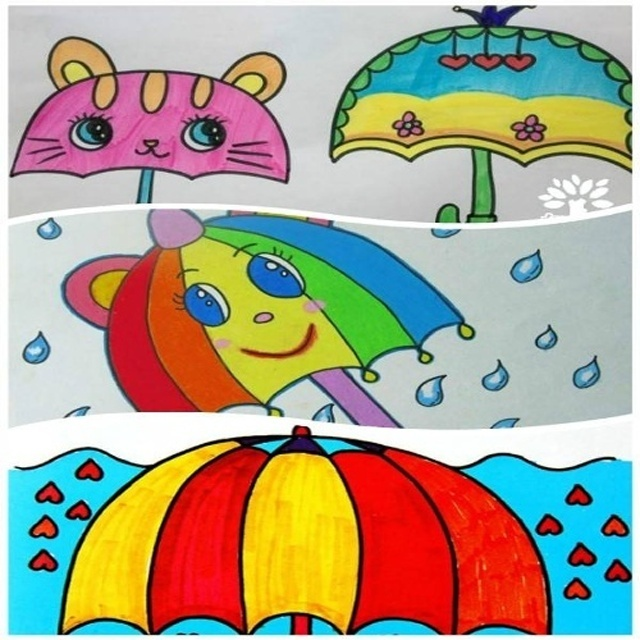umbrella: (56, 423, 553, 640), (107, 210, 474, 429), (327, 20, 640, 223), (11, 66, 292, 203)
